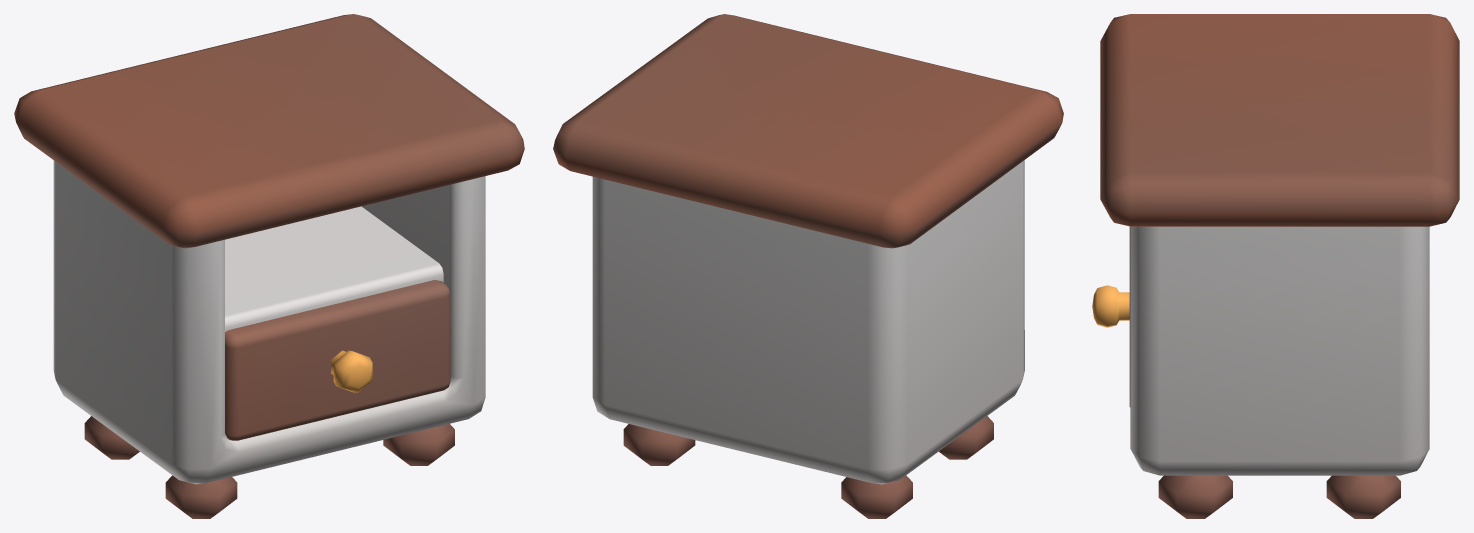
File: Furniture_Cabinet_04.fbx
3 renders of one model, left to right at view 1: azimuth 30°, elevation 25°; view 2: azimuth 150°, elevation 25°; view 3: azimuth 270°, elevation 25°, orthographic. The views are drawn at different scales.
Parts seen in each view (by area): view 1: Furniture_Cabinet_04; view 2: Furniture_Cabinet_04; view 3: Furniture_Cabinet_04.
Boxes of the visible parts, x1=… form: Furniture_Cabinet_04: x1=14, y1=14, x2=524, y2=518; Furniture_Cabinet_04: x1=553, y1=14, x2=1063, y2=518; Furniture_Cabinet_04: x1=1092, y1=14, x2=1459, y2=518.
Bounding box in the file's own units: 144 × 135 × 122.
